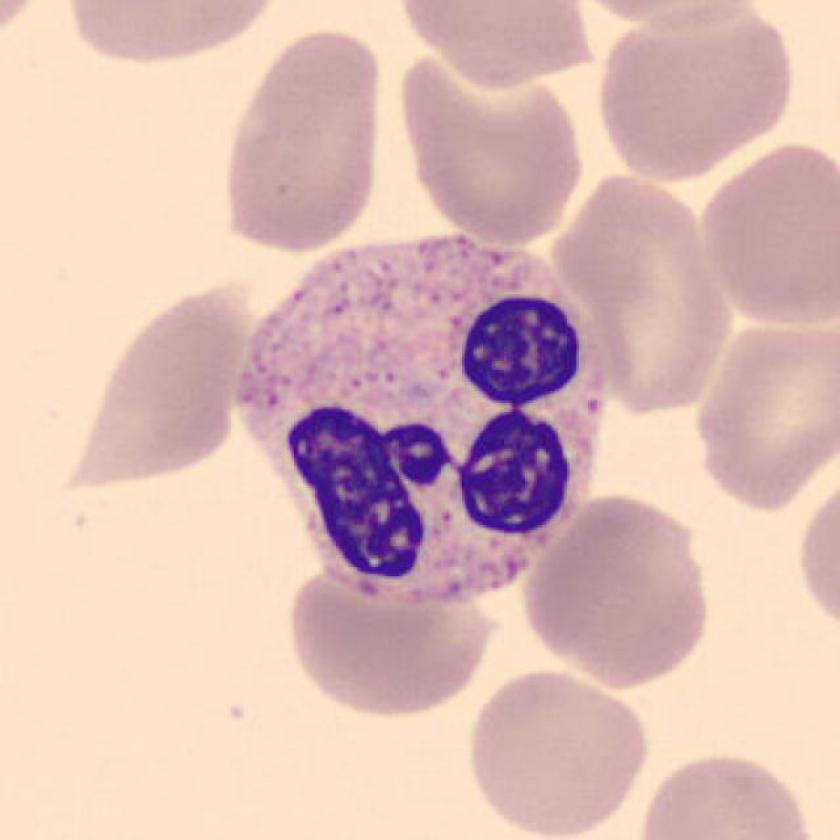neutrophil: (240, 236, 603, 607)
